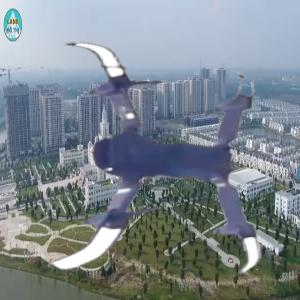drone: (9, 30, 272, 293)
